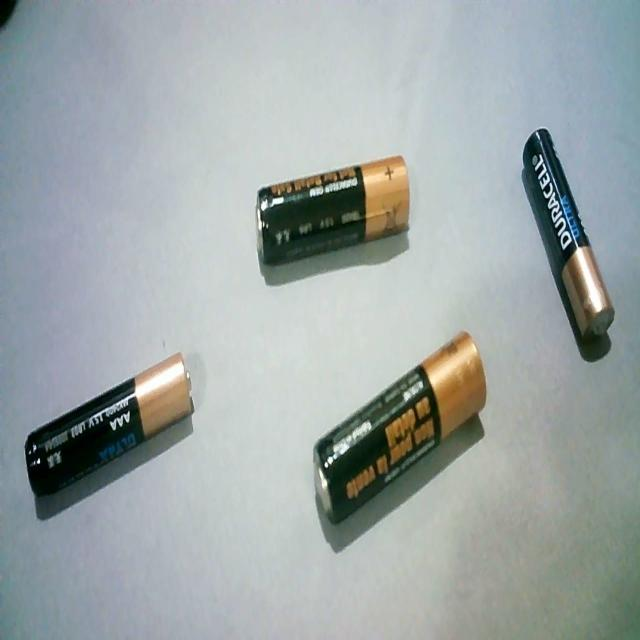AA: (307, 320, 494, 531), (252, 147, 415, 280)
AAA: (19, 340, 197, 516), (517, 123, 618, 357)
